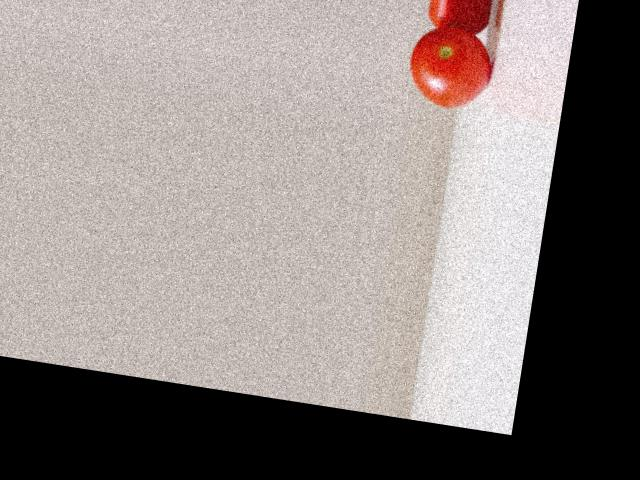tomato: (404, 21, 495, 112)
